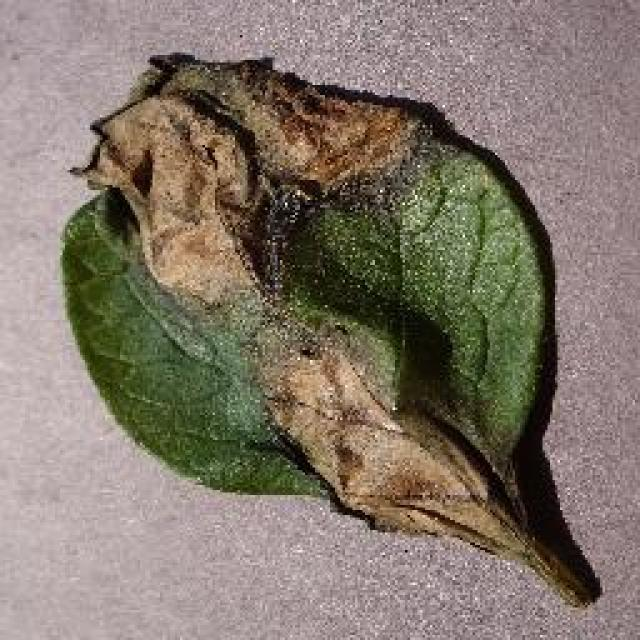Potato___Late_blight: (43, 30, 605, 628)
